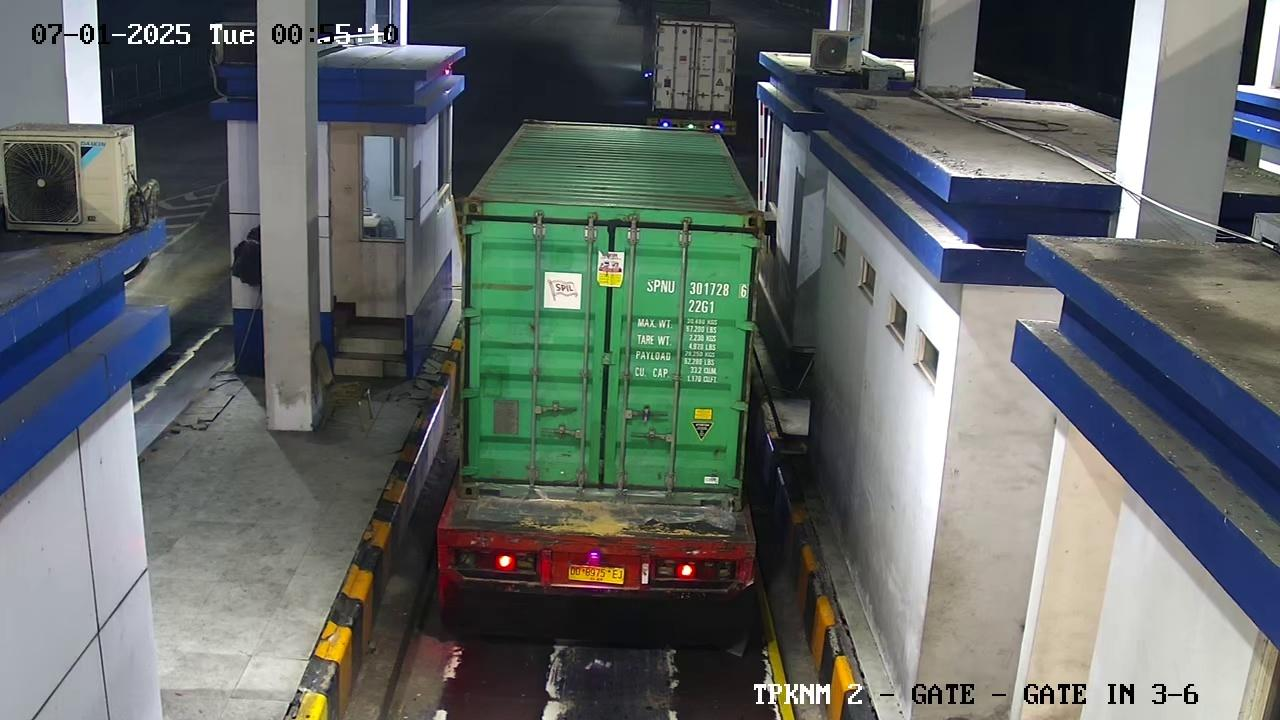Container_ID: (638, 273, 760, 302)
plate_number: (555, 555, 641, 595)
